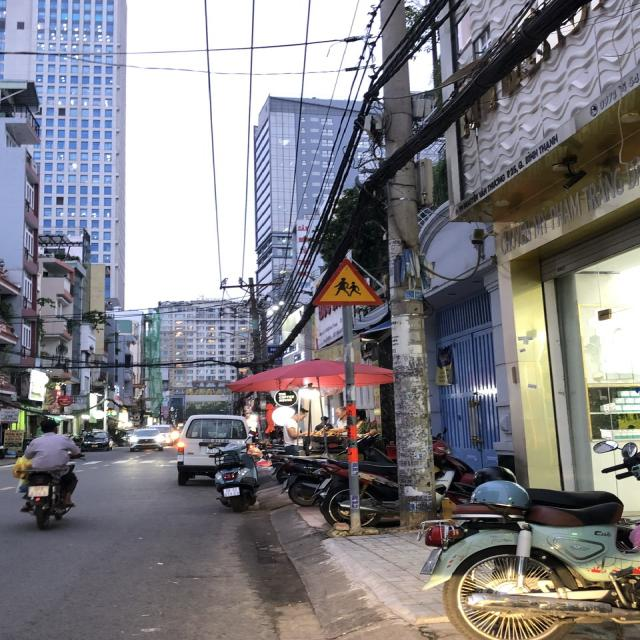Bien bao tre em: (304, 253, 396, 311)
